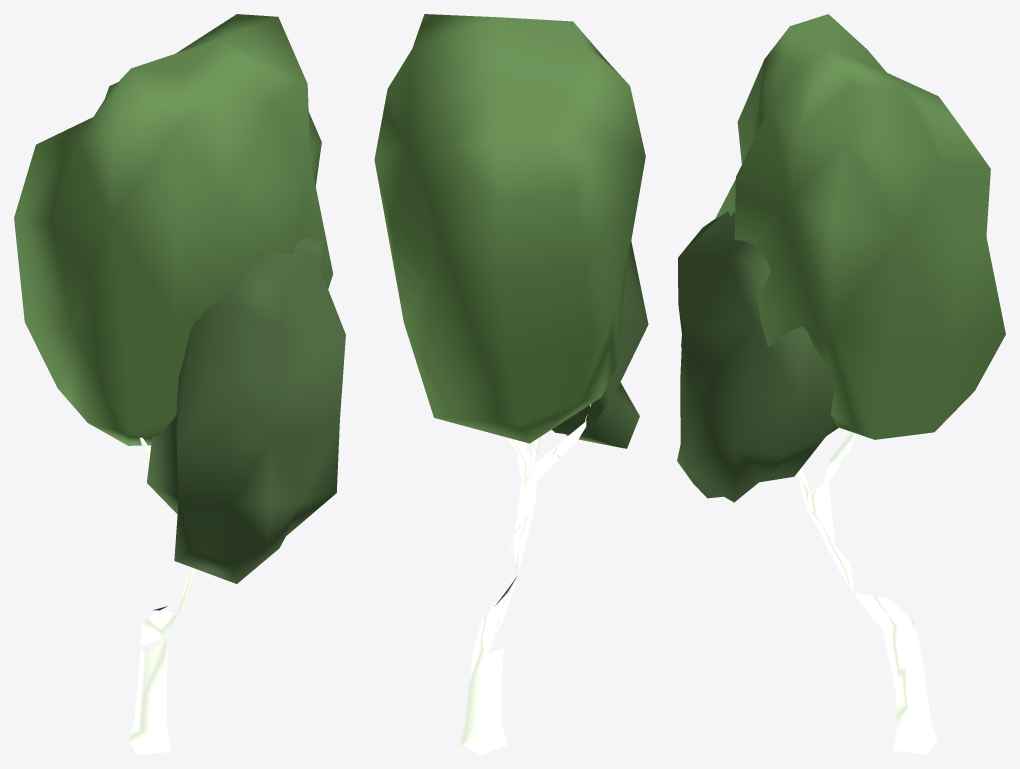
Rendered from BirchTree_2_lod.glb.
The picture shows the model from 3 angles, left to right: view 1: azimuth 30°, elevation 25°; view 2: azimuth 150°, elevation 25°; view 3: azimuth 270°, elevation 25°; orthographic projection. The views are drawn at different scales.
Parts seen in each view (by area): view 1: BirchTree_2; view 2: BirchTree_2; view 3: BirchTree_2.
Boxes of the visible parts, left/top/right/bottom form: BirchTree_2: left=14, top=14, right=345, bottom=754; BirchTree_2: left=374, top=14, right=648, bottom=754; BirchTree_2: left=677, top=14, right=1005, bottom=754.
Size of the model in its own units: 147 by 403 by 169.
